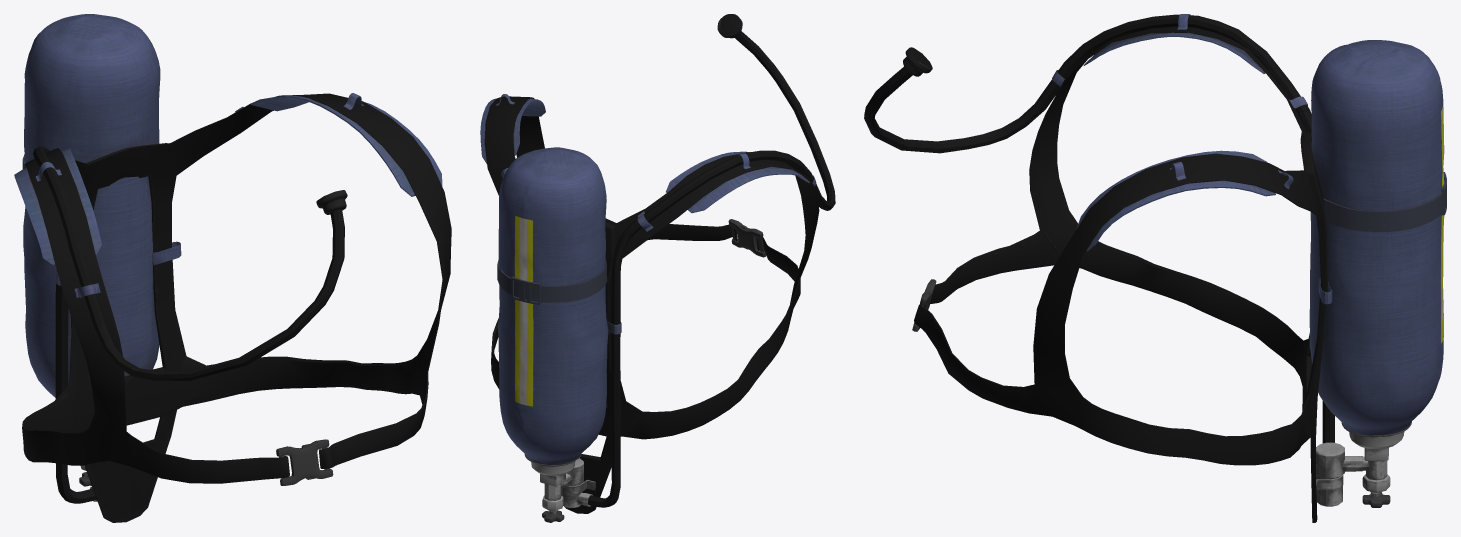
Rendered from only_breath_system.fbx.
The picture shows the model from 3 angles, left to right: view 1: azimuth 30°, elevation 25°; view 2: azimuth 150°, elevation 25°; view 3: azimuth 270°, elevation 25°; orthographic projection. The views are drawn at different scales.
Parts seen in each view (by area): view 1: only_breath_system; view 2: only_breath_system; view 3: only_breath_system.
Boxes of the visible parts, x1=… form: only_breath_system: x1=14, y1=14, x2=451, y2=522; only_breath_system: x1=480, y1=14, x2=835, y2=522; only_breath_system: x1=864, y1=14, x2=1446, y2=522.
Bounding box in the file's own units: 0.3782 × 0.4386 × 0.4895.
